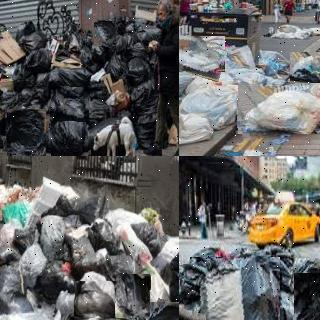Garbage: (183, 253, 286, 320), (236, 82, 320, 137), (183, 72, 239, 128), (179, 31, 226, 77), (4, 107, 48, 156), (31, 262, 77, 302), (0, 263, 32, 320), (49, 115, 89, 156), (288, 269, 320, 320), (74, 281, 117, 318), (116, 274, 151, 319), (45, 64, 94, 94), (51, 87, 90, 122), (121, 54, 154, 89), (85, 221, 118, 254), (290, 52, 320, 83), (140, 300, 179, 320), (93, 20, 118, 47)
